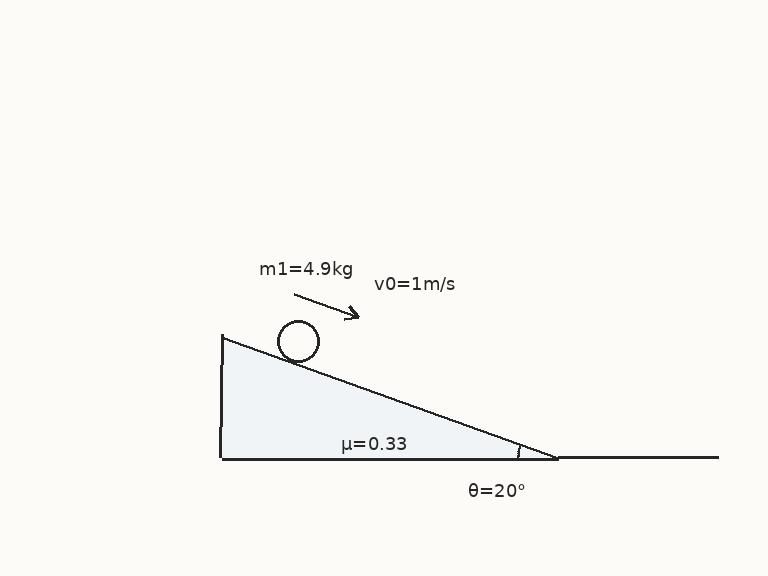ball: (275, 318, 321, 364)
ramp: (220, 334, 560, 460)
